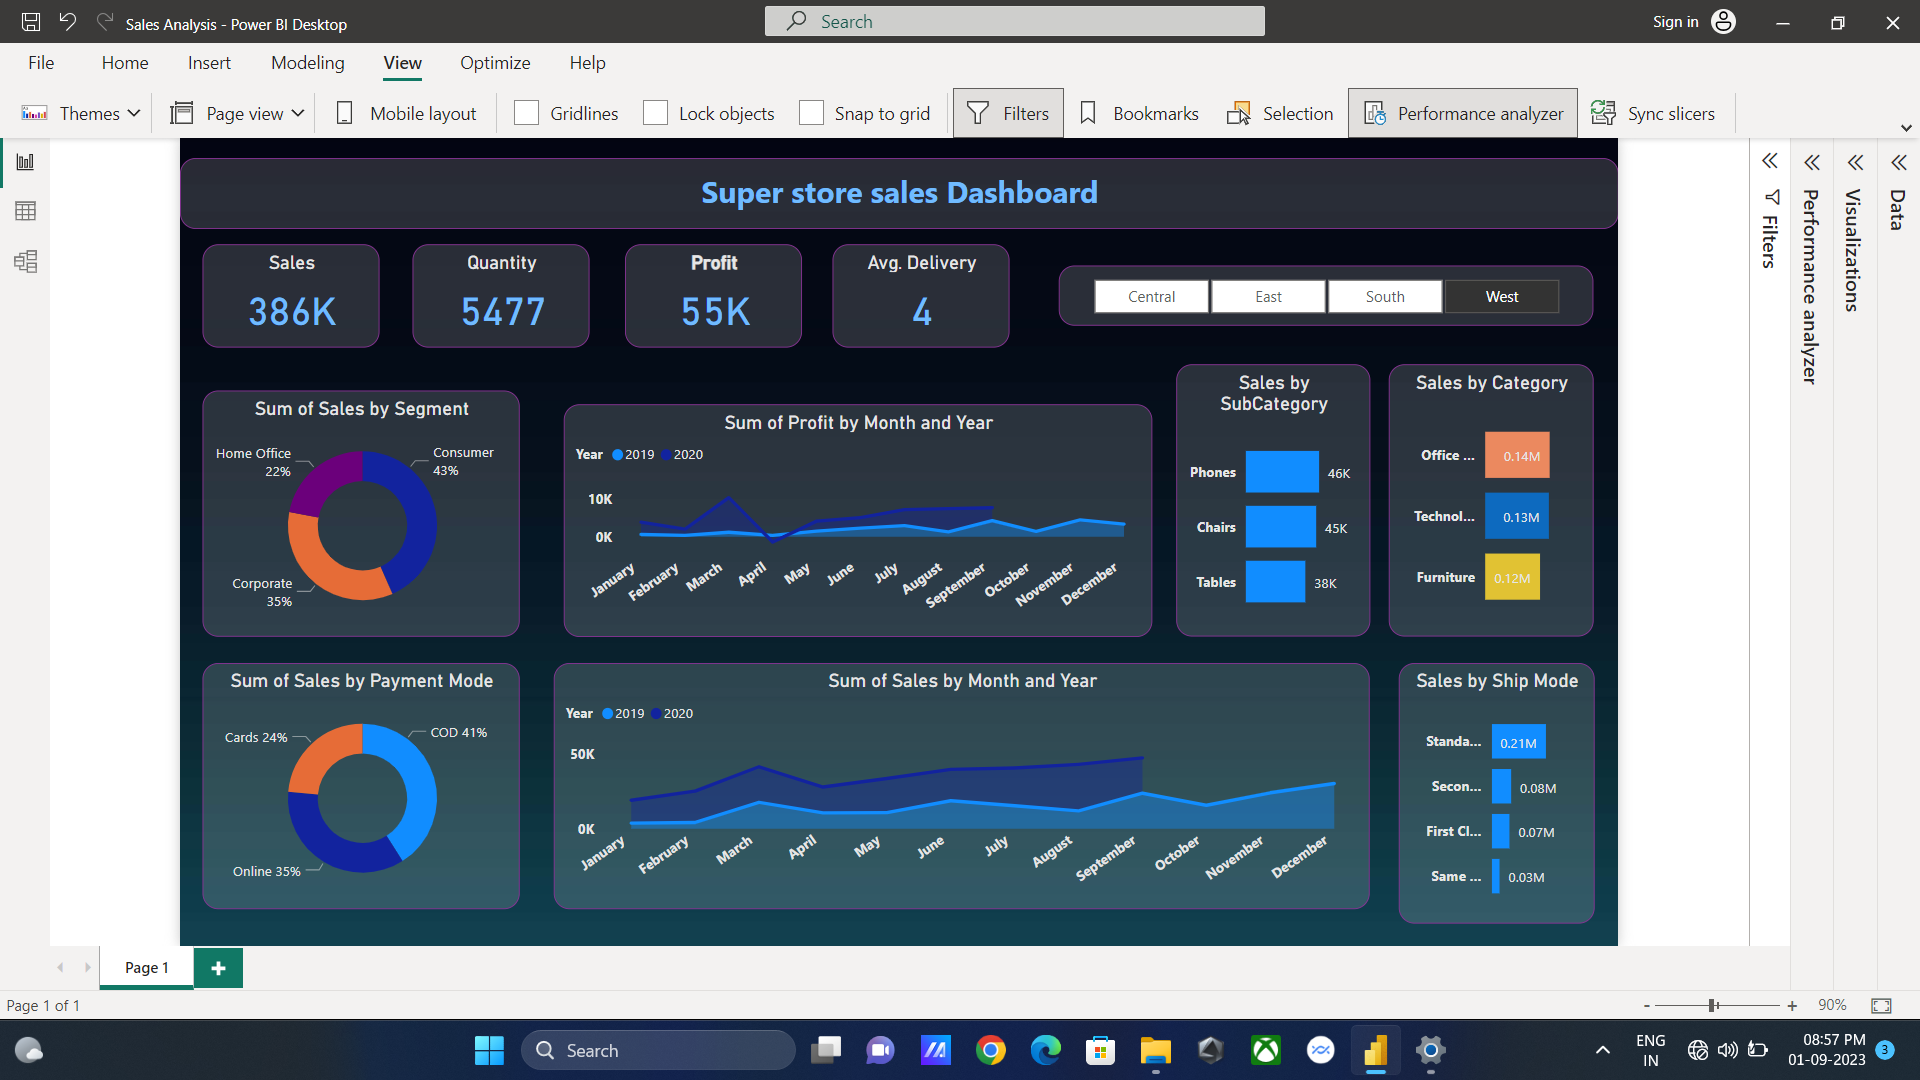

What the dashboard file says about the page in this screenshot:
{"tool":"powerbi","page":{"name":"Page 1","canvas":[1280,720],"ordinal":0},"visuals":[{"type":"clusteredBarChart","title":"Sales by Category","fields":{"Category":["SuperStore_Sales_Dataset.Category"],"Y":["Sum(SuperStore_Sales_Dataset.Sales)"]},"box":[1076.3,201.5,182.3,242.7],"z":0},{"type":"clusteredBarChart","title":"Sales by SubCategory","fields":{"Category":["SuperStore_Sales_Dataset.Sub-Category"],"Y":["Sum(SuperStore_Sales_Dataset.Sales)"]},"box":[887.1,201.5,172.8,242.7],"z":1000},{"type":"clusteredBarChart","title":"Sales by Ship Mode","fields":{"Y":["Sum(SuperStore_Sales_Dataset.Sales)"],"Category":["SuperStore_Sales_Dataset.Ship Mode"]},"box":[1084.5,467.5,174.1,231.7],"z":2000},{"type":"stackedAreaChart","fields":{"Y":["Sum(SuperStore_Sales_Dataset.Sales)"],"Category":["SuperStore_Sales_Dataset.Order Date.Variation.Date Hierarchy.Month","SuperStore_Sales_Dataset.Order Date.Variation.Date Hierarchy.Day"],"Series":["SuperStore_Sales_Dataset.Order Date.Variation.Date Hierarchy.Year"]},"box":[333.2,467.5,726.7,219.4],"z":3000},{"type":"stackedAreaChart","fields":{"Category":["SuperStore_Sales_Dataset.Order Date.Variation.Date Hierarchy.Month","SuperStore_Sales_Dataset.Order Date.Variation.Date Hierarchy.Day"],"Series":["SuperStore_Sales_Dataset.Order Date.Variation.Date Hierarchy.Year"],"Y":["Sum(SuperStore_Sales_Dataset.Profit)"]},"box":[341.4,237.2,523.7,207],"z":4000},{"type":"donutChart","fields":{"Category":["SuperStore_Sales_Dataset.Segment"],"Y":["Sum(SuperStore_Sales_Dataset.Sales)"]},"box":[20.6,224.9,282.4,219.4],"z":5000},{"type":"donutChart","fields":{"Category":["SuperStore_Sales_Dataset.Payment Mode"],"Y":["Sum(SuperStore_Sales_Dataset.Sales)"]},"box":[20.6,467.5,282.4,219.4],"z":6000},{"type":"slicer","fields":{"Values":["SuperStore_Sales_Dataset.Region"]},"box":[782.9,113.8,475.8,53.5],"z":7000},{"type":"textbox","box":[0,17.8,1280.6,63.1],"z":8000},{"type":"card","title":"Sales","fields":{"Values":["Sum(SuperStore_Sales_Dataset.Sales)"]},"box":[20.6,94.6,157.7,91.9],"z":9000},{"type":"card","title":"Quantity","fields":{"Values":["Sum(SuperStore_Sales_Dataset.Quantity)"]},"box":[207,94.6,157.7,91.9],"z":10000},{"type":"card","title":"Profit","fields":{"Values":["Sum(SuperStore_Sales_Dataset.Profit)"]},"box":[396.2,94.6,157.7,91.9],"z":11000},{"type":"card","title":"Avg. Delivery","fields":{"Values":["Avg(SuperStore_Sales_Dataset.AvgDelivery)"]},"box":[581.3,94.6,157.7,91.9],"z":12000}]}

Visuals, with their boxes on the page's 1280x720 design canvas (x1, y1, x2, y2). These are canvas units, not pixel positions in the 1920x1080 screenshot, which may show the page scaled, cropped or inside an application window:
"Sales by Category" clusteredBarChart: bbox=[1076, 202, 1259, 444]
"Sales by SubCategory" clusteredBarChart: bbox=[887, 202, 1060, 444]
"Sales by Ship Mode" clusteredBarChart: bbox=[1084, 468, 1259, 699]
stackedAreaChart - Sum(SuperStore_Sales_Dataset.Sales) x SuperStore_Sales_Dataset.Order Date.Variation.Date Hierarchy.Month: bbox=[333, 468, 1060, 687]
stackedAreaChart - SuperStore_Sales_Dataset.Order Date.Variation.Date Hierarchy.Month x SuperStore_Sales_Dataset.Order Date.Variation.Date Hierarchy.Day: bbox=[341, 237, 865, 444]
donutChart - SuperStore_Sales_Dataset.Segment x Sum(SuperStore_Sales_Dataset.Sales): bbox=[21, 225, 303, 444]
donutChart - SuperStore_Sales_Dataset.Payment Mode x Sum(SuperStore_Sales_Dataset.Sales): bbox=[21, 468, 303, 687]
slicer - SuperStore_Sales_Dataset.Region: bbox=[783, 114, 1259, 167]
textbox: bbox=[0, 18, 1281, 81]
"Sales" card: bbox=[21, 95, 178, 186]
"Quantity" card: bbox=[207, 95, 365, 186]
"Profit" card: bbox=[396, 95, 554, 186]
"Avg. Delivery" card: bbox=[581, 95, 739, 186]
